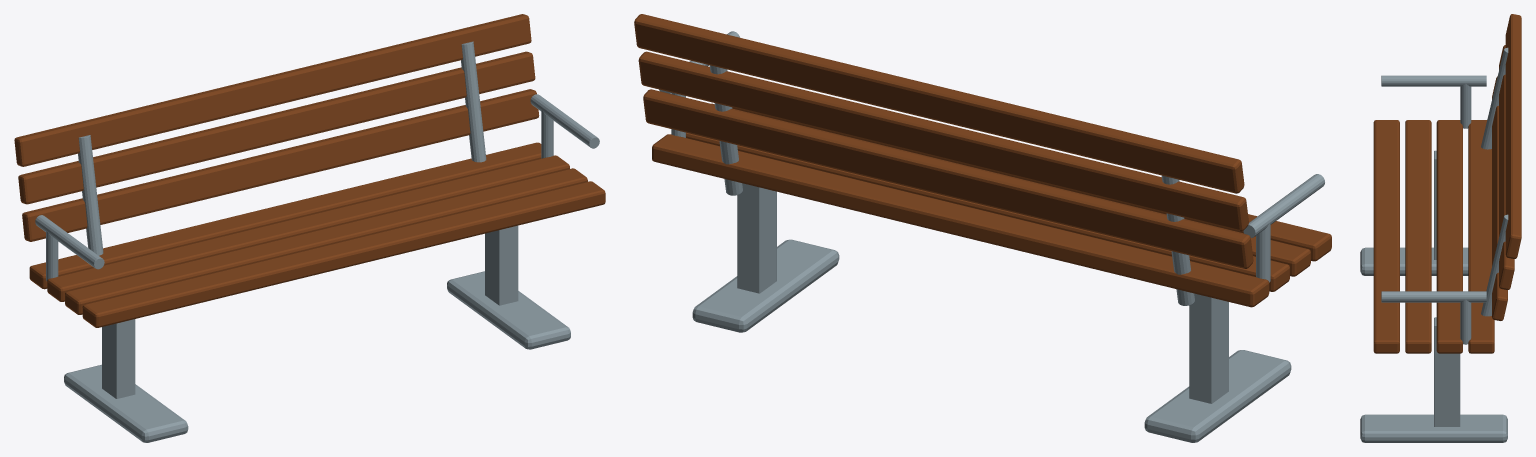
The picture shows the model from 3 angles, left to right: view 1: azimuth 30°, elevation 25°; view 2: azimuth 150°, elevation 25°; view 3: azimuth 270°, elevation 25°; orthographic projection. The views are drawn at different scales.
Visible parts, largest first — view 1: BACK_Slat, BACK_Slat.002, BACK_Slat.001, SEAT_Slat, SEAT_Slat.001, SEAT_Slat.002, SEAT_Slat.003, SUPPORT_Foot, SUPPORT_Foot.001, SUPPORT_Leg.001, SUPPORT_Leg, BACK_Support (+3 smaller); view 2: BACK_Slat, BACK_Slat.001, BACK_Slat.002, SEAT_Slat.003, SUPPORT_Foot.001, SUPPORT_Foot, SUPPORT_Leg.001, SUPPORT_Leg, SEAT_Slat.002, SEAT_Slat, SEAT_Slat.001, ARM_Rest.001 (+3 smaller); view 3: SEAT_Slat, SEAT_Slat.001, SEAT_Slat.002, SEAT_Slat.003, BACK_Slat, SUPPORT_Foot.001, SUPPORT_Leg.001, BACK_Slat.002, BACK_Slat.001, ARM_Rest.001, ARM_Rest, SUPPORT_Foot (+5 smaller).
Boxes of the visible parts, x1,y1,x2,y2 form: BACK_Slat: (14,14,531,166); BACK_Slat.002: (18,51,535,204); BACK_Slat.001: (22,89,539,241); SEAT_Slat: (82,181,605,327); SEAT_Slat.001: (65,168,587,314); SEAT_Slat.002: (47,155,569,301); SEAT_Slat.003: (29,142,541,289); SUPPORT_Foot: (64,364,188,442); SUPPORT_Foot.001: (447,271,570,349); SUPPORT_Leg.001: (485,225,518,305); SUPPORT_Leg: (102,319,135,398); BACK_Support: (461,41,486,162); BACK_Slat: (634,14,1244,193); BACK_Slat.001: (643,89,1253,268); BACK_Slat.002: (638,51,1248,231); SEAT_Slat.003: (652,134,1269,307); SUPPORT_Foot.001: (692,239,839,332); SUPPORT_Foot: (1144,350,1291,442); SUPPORT_Leg.001: (737,183,776,293); SUPPORT_Leg: (1189,293,1228,403); SEAT_Slat.002: (686,132,1289,291); SEAT_Slat: (732,107,1331,261); SEAT_Slat.001: (711,103,1310,276); ARM_Rest.001: (1243,174,1324,237); SEAT_Slat: (1373,120,1399,353); SEAT_Slat.001: (1405,120,1431,353); SEAT_Slat.002: (1436,120,1462,353); SEAT_Slat.003: (1468,120,1494,353); BACK_Slat: (1505,14,1521,258); SUPPORT_Foot.001: (1360,414,1507,442); SUPPORT_Leg.001: (1434,317,1460,426); BACK_Slat.002: (1499,45,1514,289); BACK_Slat.001: (1492,76,1507,320); ARM_Rest.001: (1381,75,1486,86); ARM_Rest: (1381,291,1486,302); SUPPORT_Foot: (1360,247,1468,275).
Bounding box in the file's own units: 2 × 0.9515 × 0.612.
